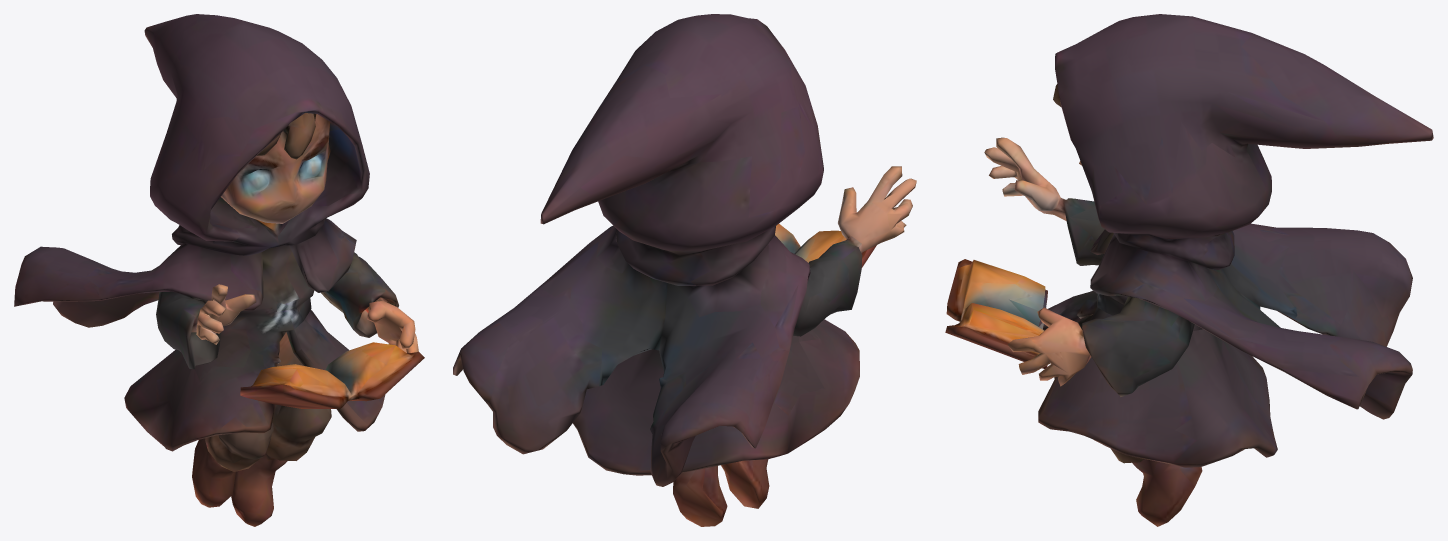
File: ArcaneSpark.glb
The picture shows the model from 3 angles, left to right: view 1: azimuth 30°, elevation 25°; view 2: azimuth 150°, elevation 25°; view 3: azimuth 270°, elevation 25°; orthographic projection. The views are drawn at different scales.
Visible parts, largest first — view 1: Arcane Spark; view 2: Arcane Spark; view 3: Arcane Spark.
Part boxes in pixels (x1,y1,x2,y2): Arcane Spark: [14, 14, 424, 526]; Arcane Spark: [453, 14, 916, 526]; Arcane Spark: [945, 14, 1433, 526].
Bounding box in the file's own units: 0.8629 × 1.39 × 1.21.
Materials: 1 (1 with a texture image).
